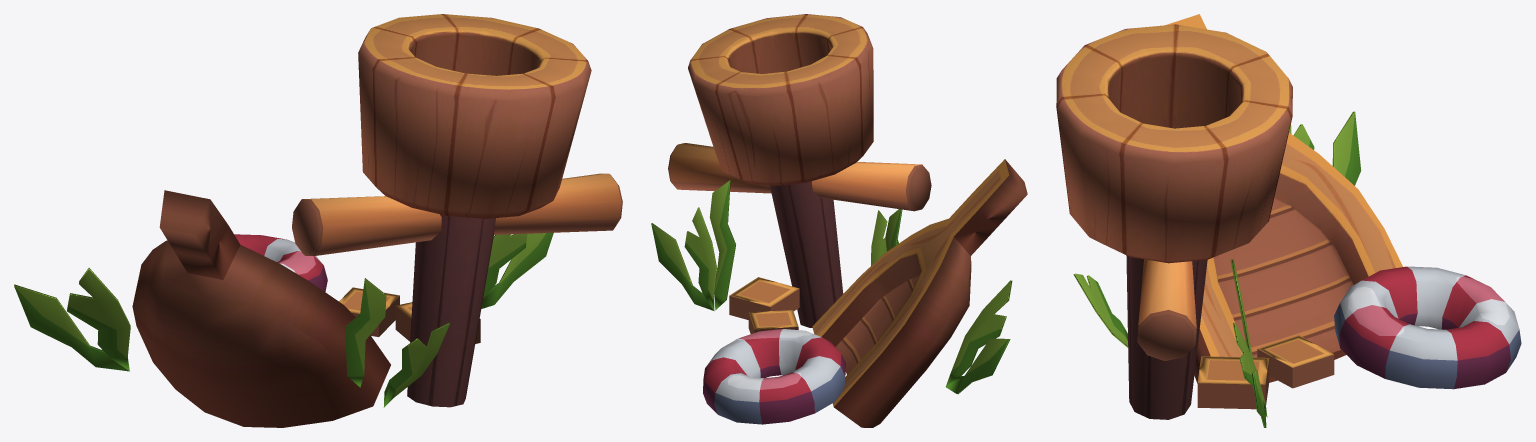
File: OffTheCoastOdysseyStatue.fbx
3 renders of one model, left to right at view 1: azimuth 30°, elevation 25°; view 2: azimuth 150°, elevation 25°; view 3: azimuth 270°, elevation 25°, orthographic. The views are drawn at different scales.
Visible parts, largest first — view 1: OffTheCoastOdysseyStatue; view 2: OffTheCoastOdysseyStatue; view 3: OffTheCoastOdysseyStatue.
Boxes of the visible parts, x1,y1,x2,y2 form: OffTheCoastOdysseyStatue: (14,14,622,427); OffTheCoastOdysseyStatue: (651,14,1027,427); OffTheCoastOdysseyStatue: (1056,14,1521,427).
Size of the model in its own units: 26.75 by 19.37 by 20.6.
Materials: 1 (1 with a texture image).
